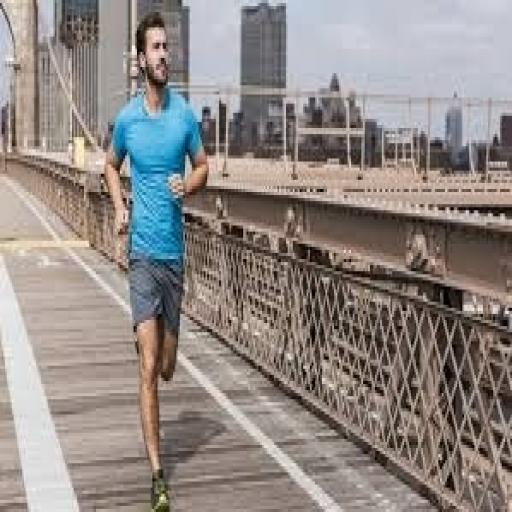running: (102, 9, 210, 509)
